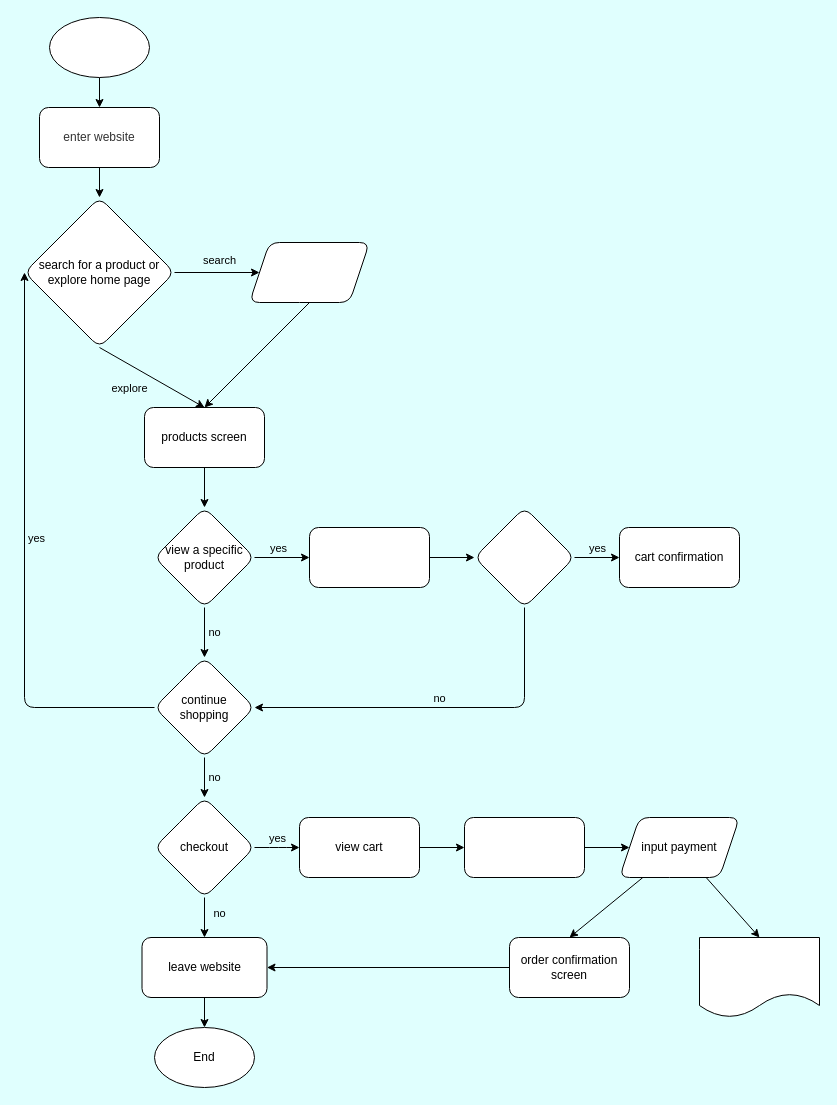
Some shapes in this 837 by 1105 pixel diagram are drawn without their labels. Each missing label, with the box of its shape:
add to cart: (474, 506, 574, 608)
confirmation email: (698, 936, 820, 1018)
product webpage: (308, 526, 430, 588)
search query: (248, 242, 370, 302)
Start: (48, 16, 150, 78)
view payment: (464, 816, 584, 878)
